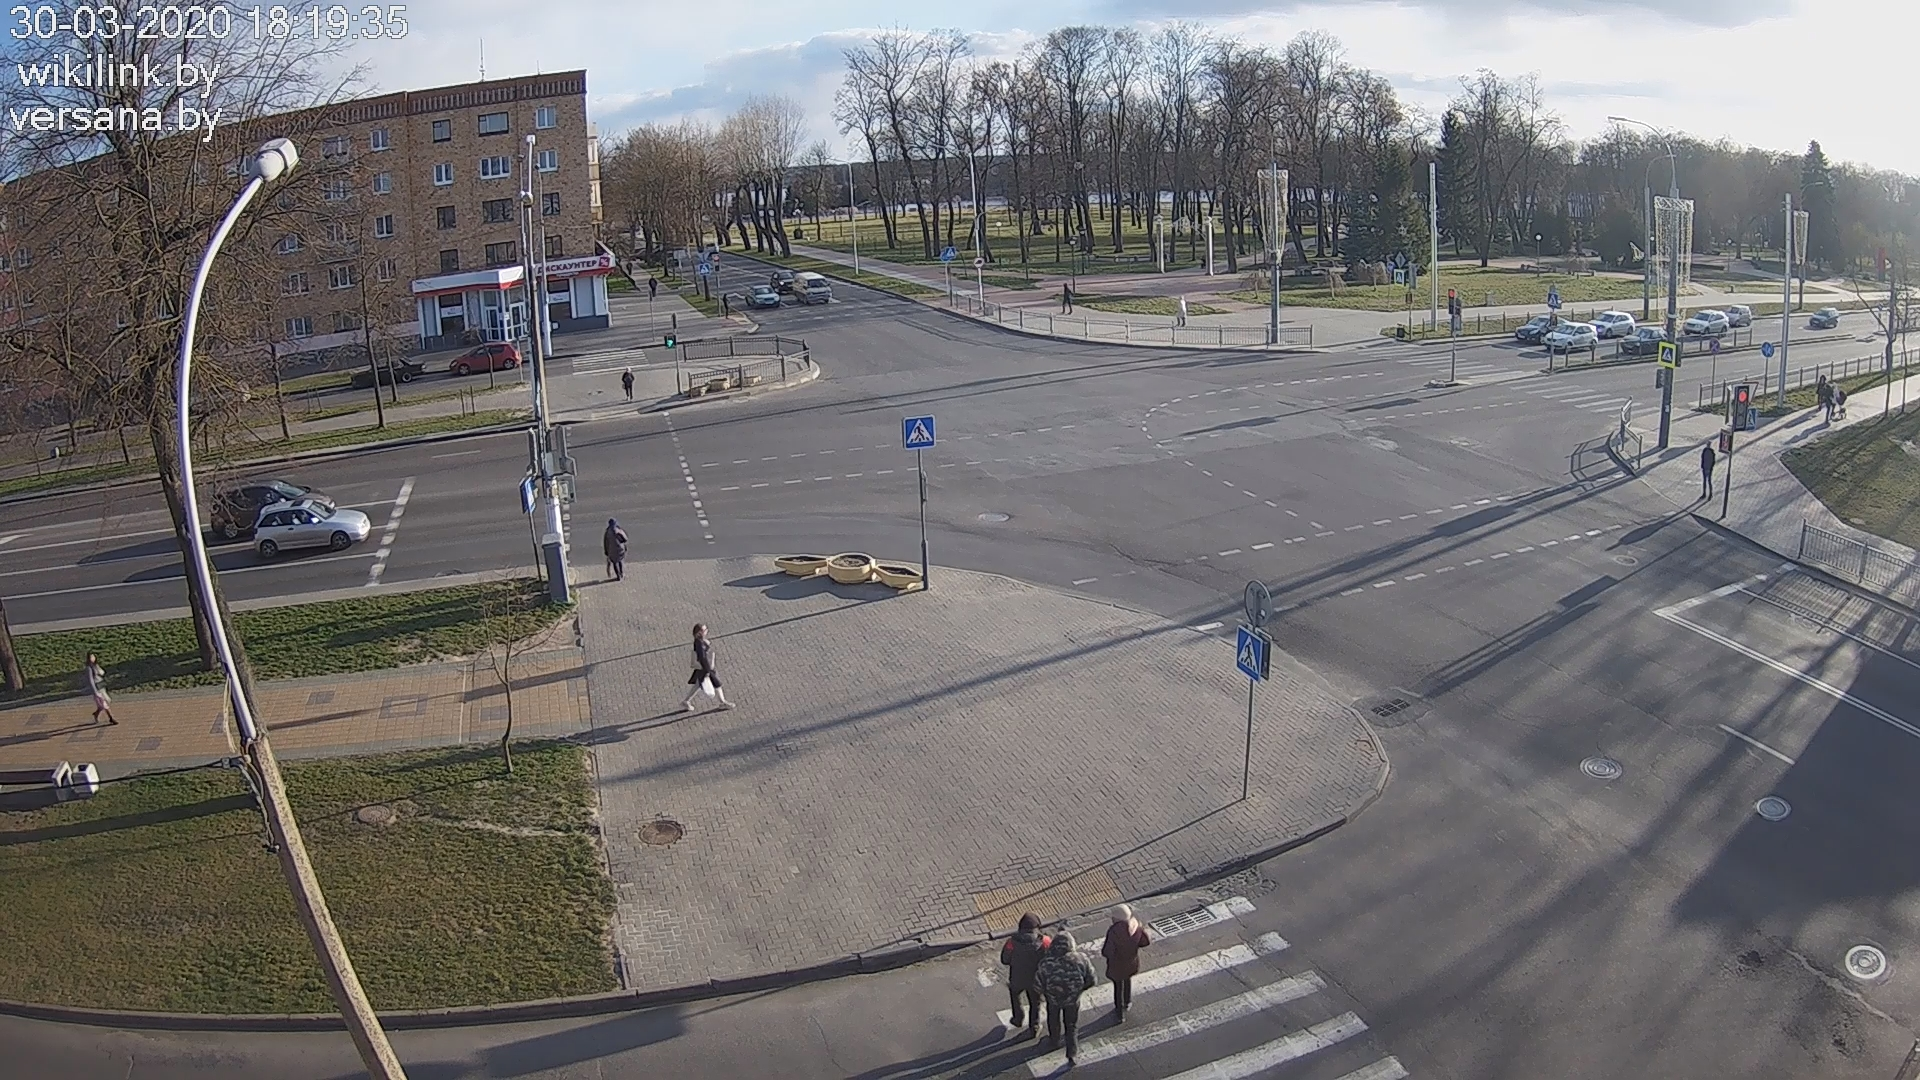car: (208, 477, 336, 539), (255, 498, 371, 560), (448, 342, 521, 376), (349, 356, 427, 386), (1545, 322, 1598, 352), (1588, 311, 1636, 339), (1683, 309, 1729, 338), (1619, 327, 1668, 353), (1515, 315, 1564, 342), (793, 272, 831, 305), (746, 284, 781, 309)
